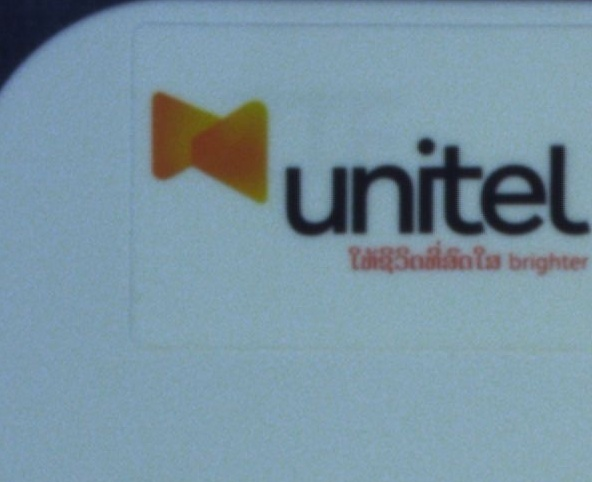BT_unitel: (147, 89, 591, 275)
